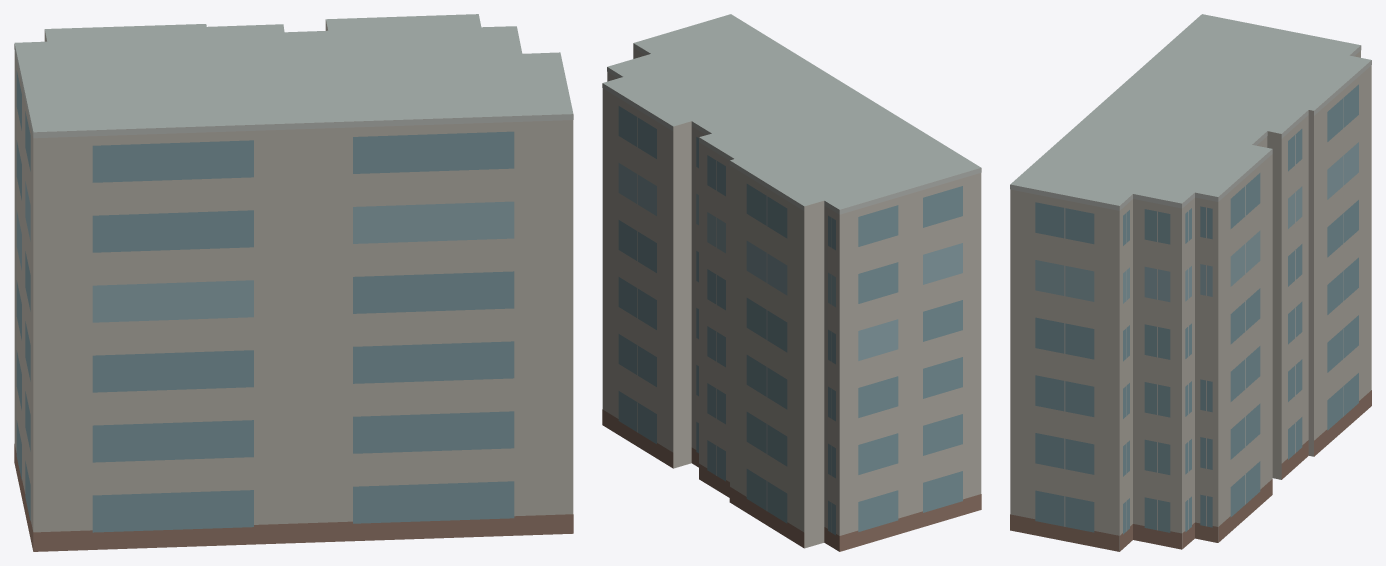
Rendered from survey-upis-32951145.glb.
3 renders of one model, left to right at view 1: azimuth 30°, elevation 25°; view 2: azimuth 150°, elevation 25°; view 3: azimuth 270°, elevation 25°, orthographic. The views are drawn at different scales.
Parts seen in each view (by area): view 1: survey-upis-32951145.tmp; view 2: survey-upis-32951145.tmp; view 3: survey-upis-32951145.tmp.
Part boxes in pixels (box(x1,y1,x2,y2)): survey-upis-32951145.tmp: box(14, 14, 573, 551); survey-upis-32951145.tmp: box(602, 14, 981, 551); survey-upis-32951145.tmp: box(1010, 14, 1371, 551).
Bounding box in the file's own units: 20.12 × 16.9 × 16.02.
